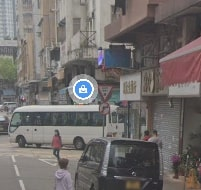No Turn Right: (98, 102, 110, 115)
